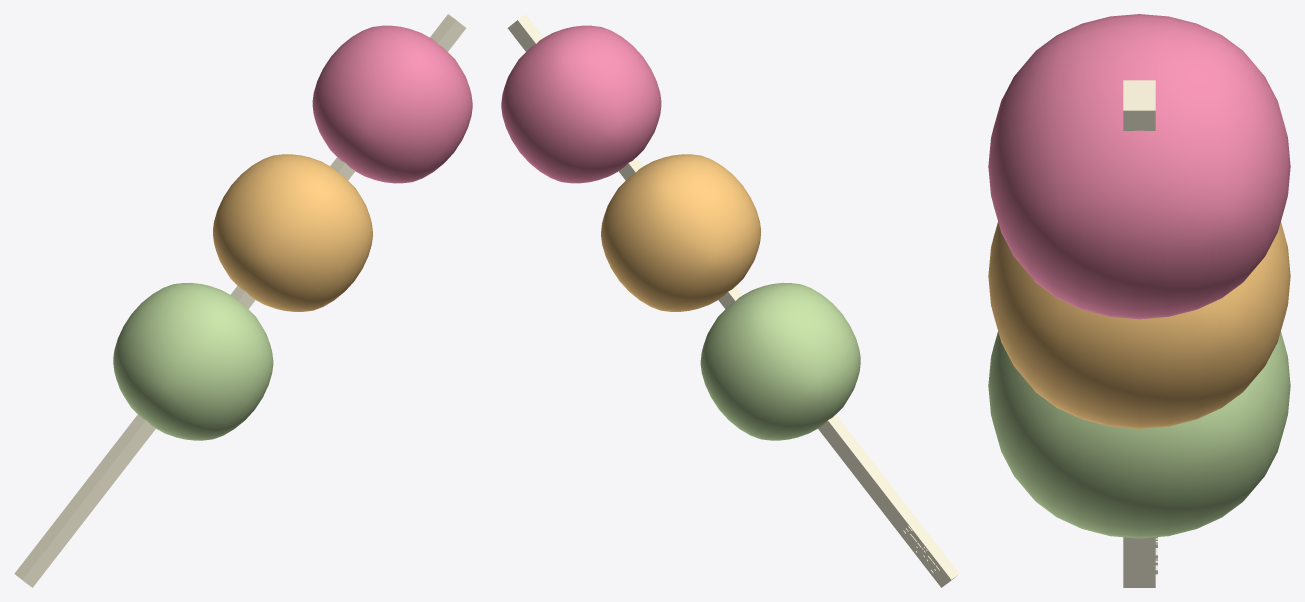
File: dango.fbx
3 renders of one model, left to right at view 1: azimuth 30°, elevation 25°; view 2: azimuth 150°, elevation 25°; view 3: azimuth 270°, elevation 25°, orthographic. The views are drawn at different scales.
Parts seen in each view (by area): view 1: Cube.429; view 2: Cube.429; view 3: Cube.429.
Boxes of the visible parts, <box> form: Cube.429: <box>14,14,472,587</box>; Cube.429: <box>501,14,959,587</box>; Cube.429: <box>988,14,1290,587</box>.
Size of the model in its own units: 214 by 214 by 64.13.
1 material, 1 textured.
